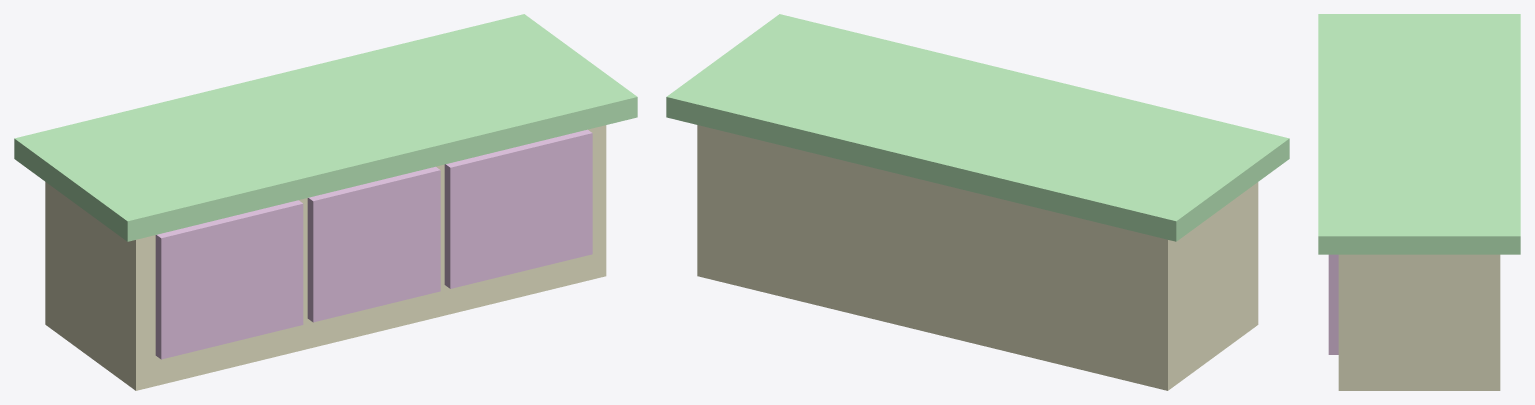
File: End_Table.glb
3 views of the same model, side by side, from view 1: azimuth 30°, elevation 25°; view 2: azimuth 150°, elevation 25°; view 3: azimuth 270°, elevation 25° (orthographic). The views are drawn at different scales.
Parts seen in each view (by area): view 1: End Table; view 2: End Table; view 3: End Table.
Part boxes in pixels (x1=…): End Table: x1=14, y1=14, x2=637, y2=390; End Table: x1=666, y1=14, x2=1289, y2=390; End Table: x1=1318, y1=14, x2=1520, y2=390.
Bounding box in the file's own units: 1.3 × 0.4455 × 0.5004.
